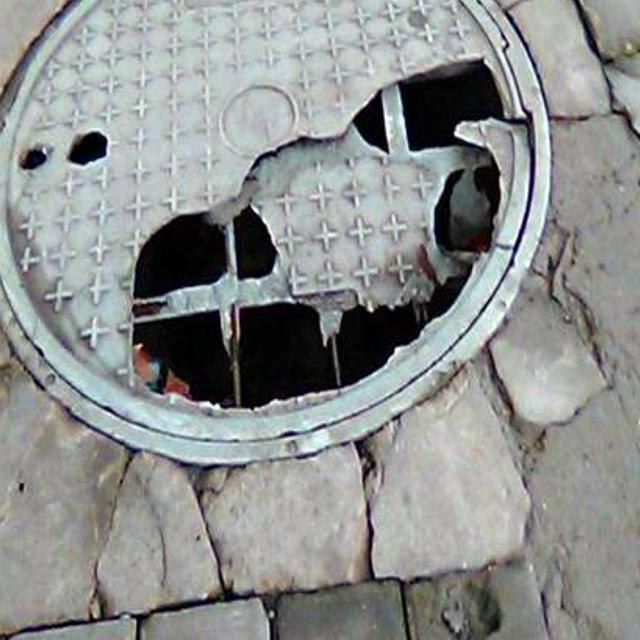broke: (0, 0, 581, 555)
